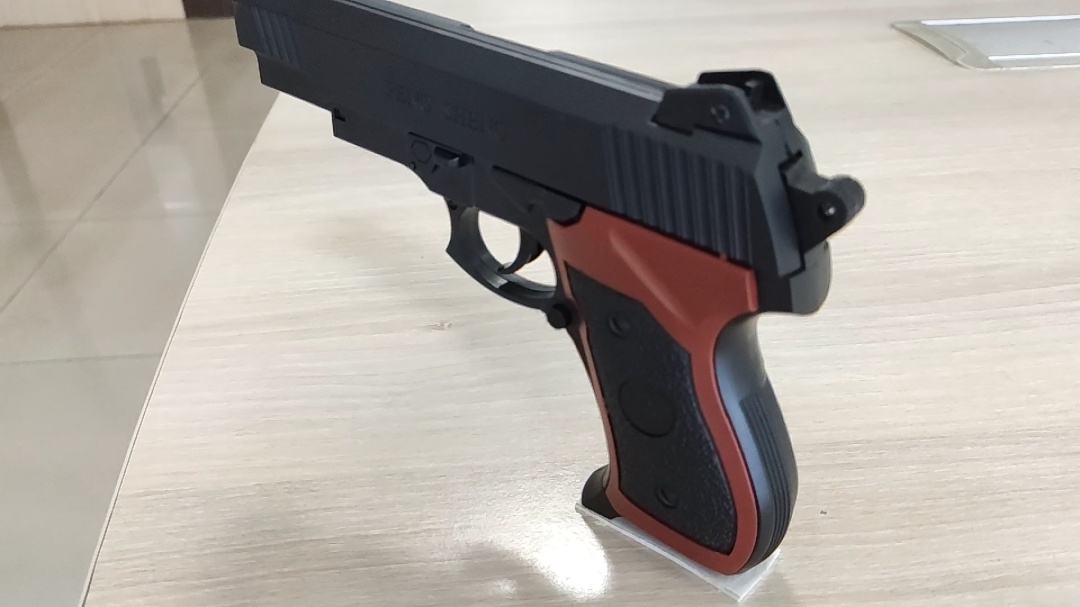gun: (233, 1, 868, 578)
